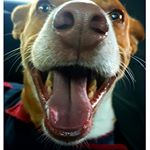puppy: (7, 1, 142, 150)
